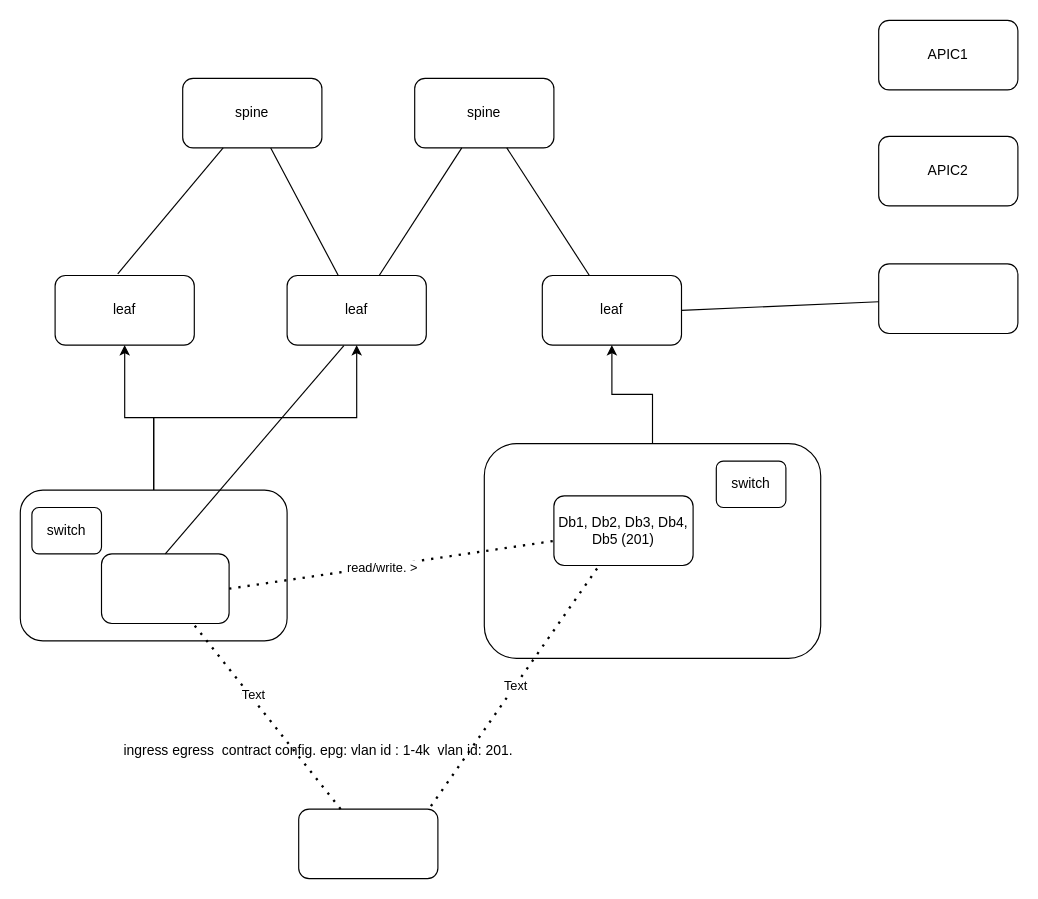
The diagram is 1038 pixels wide and 899 high, and some of its shapes have lost their labels. Here are the shapes that lost their labels. From the top down, the box of each, then its label:
(878, 263, 1018, 334): APIC3
(100, 553, 229, 624): App1, App2, App3, App4, App5. (200)
(298, 808, 438, 879): Web1, web2, web3, web4 (202)
